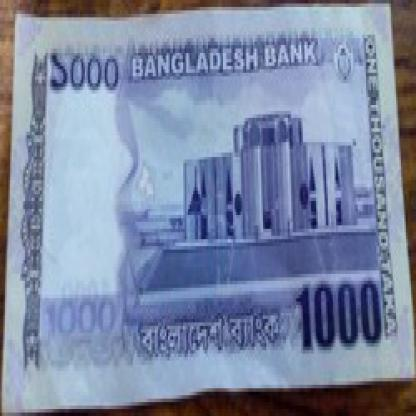One Thousand taka: (291, 281, 386, 346), (42, 298, 124, 340), (48, 48, 122, 94)
